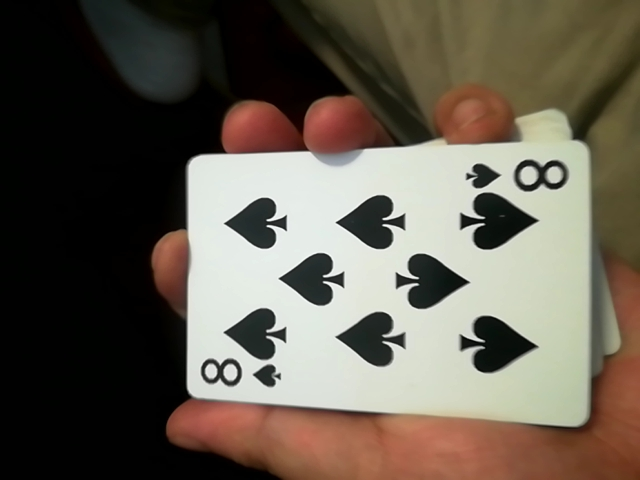ht 8: (168, 137, 575, 434)
